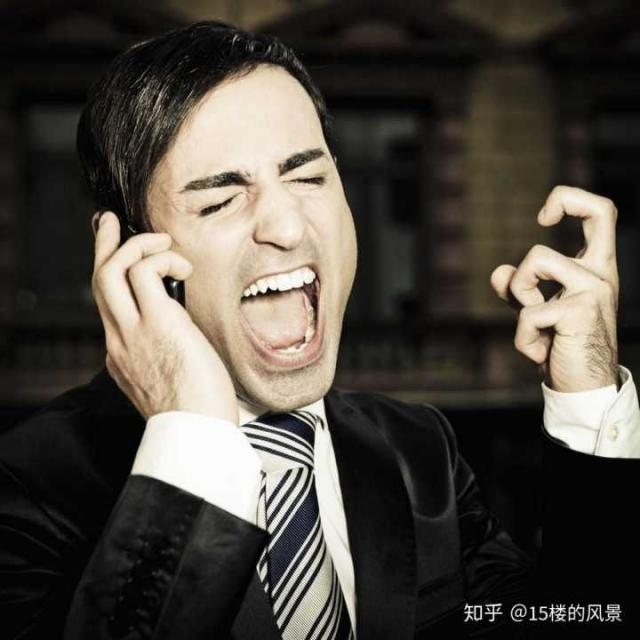phone: (73, 144, 282, 452)
